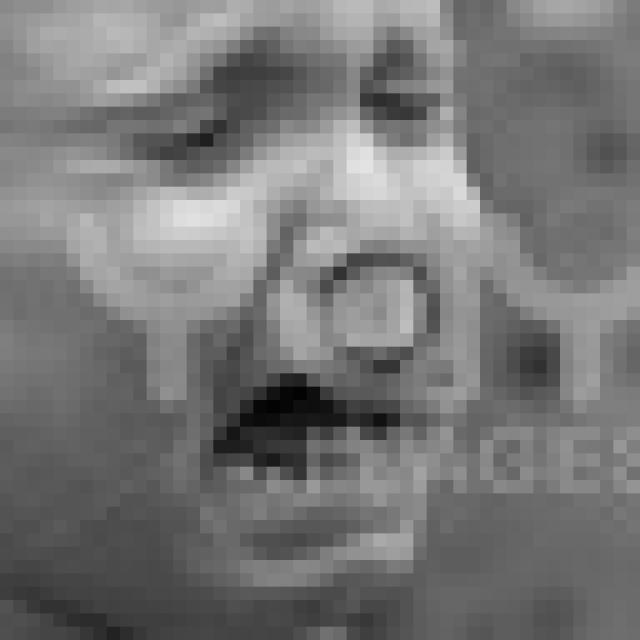sad: (72, 5, 446, 596)
